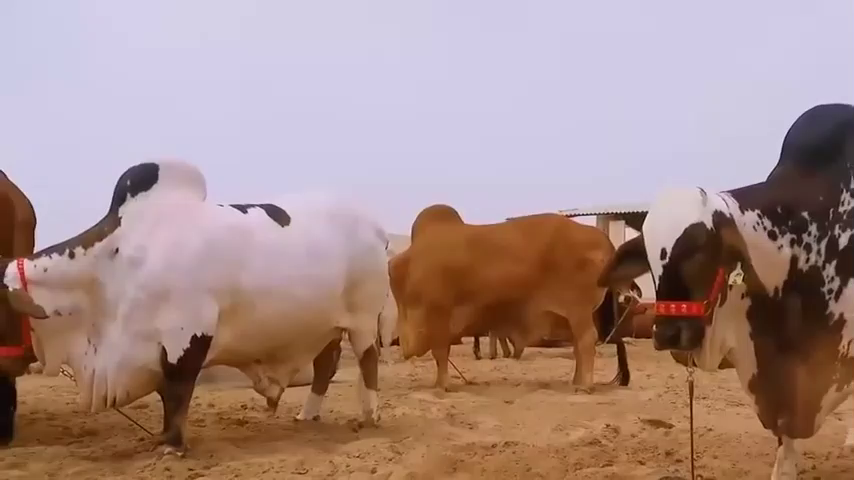bo: (2, 148, 389, 480), (579, 94, 852, 480), (372, 188, 624, 404)
